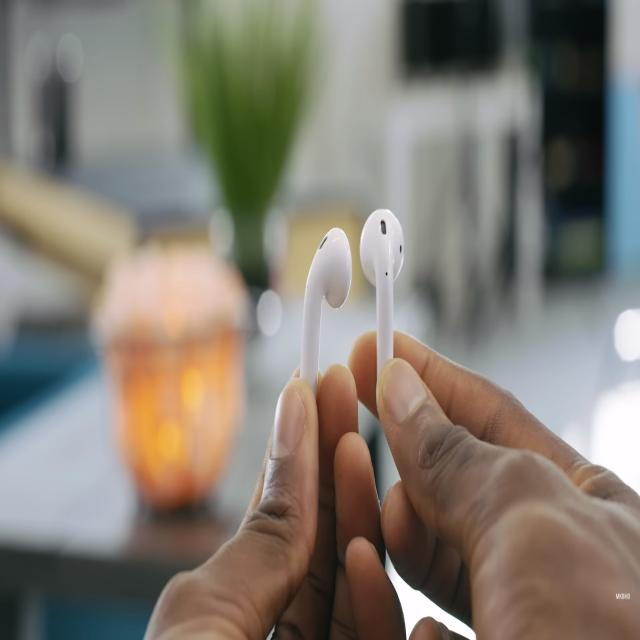airpods: (299, 226, 353, 402), (359, 208, 405, 376)
